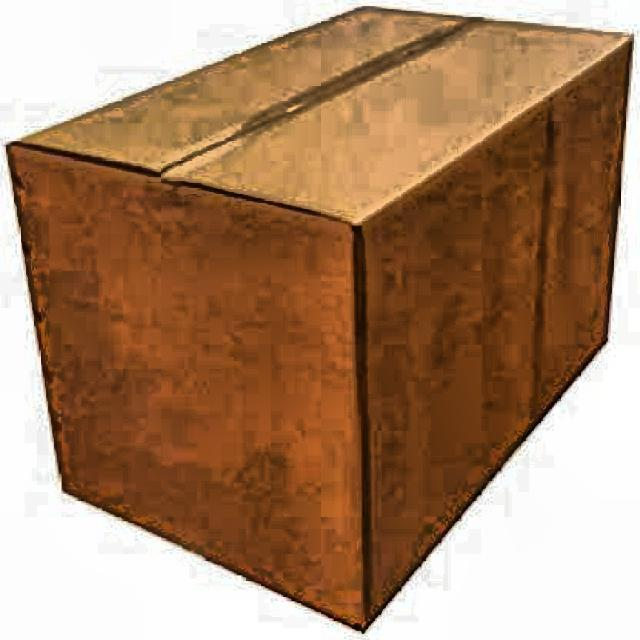Cardbox: (0, 37, 605, 640)
